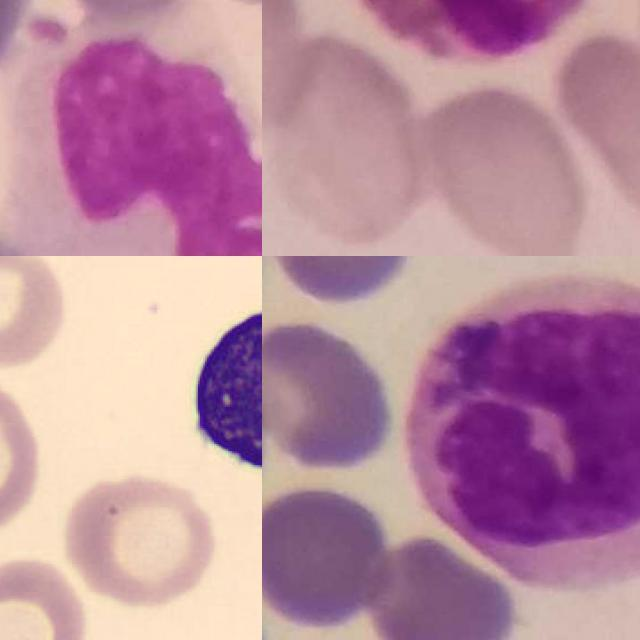Eosinophil: (340, 0, 603, 70)
Lymphocyte: (173, 292, 262, 491)
Monocyte: (411, 275, 640, 597), (5, 4, 262, 256)
RBC: (57, 467, 223, 611), (0, 256, 72, 375), (0, 551, 93, 640), (0, 370, 47, 541)
